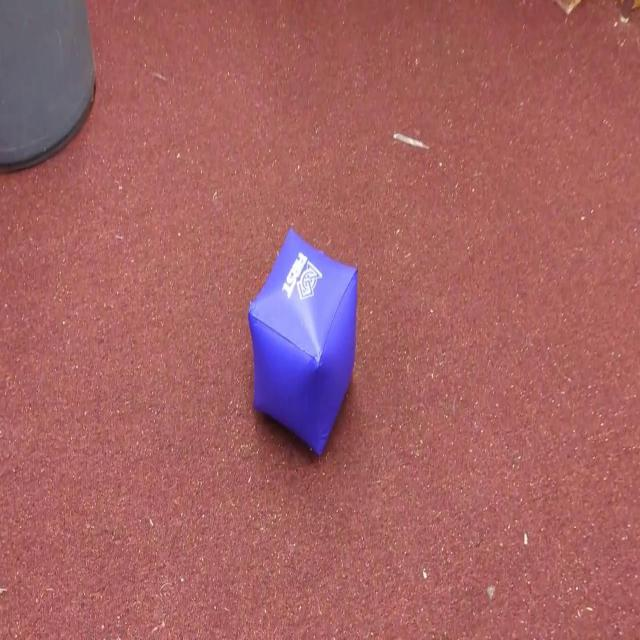frc_cube: (248, 227, 358, 460)
